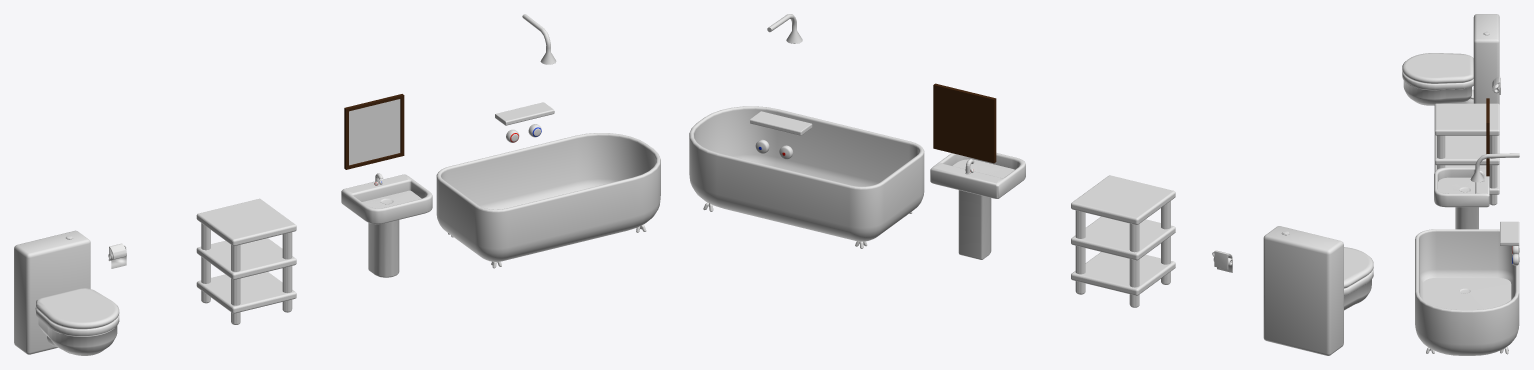
File: Bath.fbx
The picture shows the model from 3 angles, left to right: view 1: azimuth 30°, elevation 25°; view 2: azimuth 150°, elevation 25°; view 3: azimuth 270°, elevation 25°; orthographic projection. The views are drawn at different scales.
Visible parts, largest first — view 1: Bathtub, Bath cupboard, Toilet, Bath Sink, Sink Mirror, Toilet lid, Shelf; view 2: Bathtub, Bath cupboard, Toilet, Bath Sink, Sink Mirror, Toilet lid, Shelf; view 3: Bathtub, Bath cupboard, Toilet, Bath Sink, Toilet lid, Shelf, Shower, Sink Mirror, Toilet paper holder.
Part boxes in pixels (left/top/right/bottom): Bathtub: left=436, top=133, right=660, bottom=268; Bath cupboard: left=196, top=198, right=296, bottom=324; Toilet: left=14, top=230, right=119, bottom=355; Bath Sink: left=341, top=173, right=432, bottom=277; Sink Mirror: left=344, top=94, right=404, bottom=169; Toilet lid: left=36, top=288, right=119, bottom=329; Shelf: left=495, top=102, right=554, bottom=125; Bathtub: left=689, top=106, right=924, bottom=248; Bath cupboard: left=1071, top=175, right=1175, bottom=307; Toilet: left=1263, top=226, right=1373, bottom=355; Bath Sink: left=930, top=153, right=1025, bottom=259; Sink Mirror: left=933, top=83, right=996, bottom=163; Toilet lid: left=1344, top=247, right=1373, bottom=288; Shelf: left=750, top=111, right=812, bottom=135; Bathtub: left=1415, top=229, right=1519, bottom=355; Bath cupboard: left=1434, top=103, right=1499, bottom=205; Toilet: left=1402, top=14, right=1499, bottom=105; Bath Sink: left=1434, top=167, right=1489, bottom=229; Toilet lid: left=1402, top=53, right=1473, bottom=83; Shelf: left=1500, top=221, right=1519, bottom=245; Shower: left=1470, top=153, right=1519, bottom=182; Sink Mirror: left=1486, top=98, right=1489, bottom=176; Toilet paper holder: left=1492, top=76, right=1500, bottom=94.
Bounding box in the file's own units: 1922 × 581 × 361.
